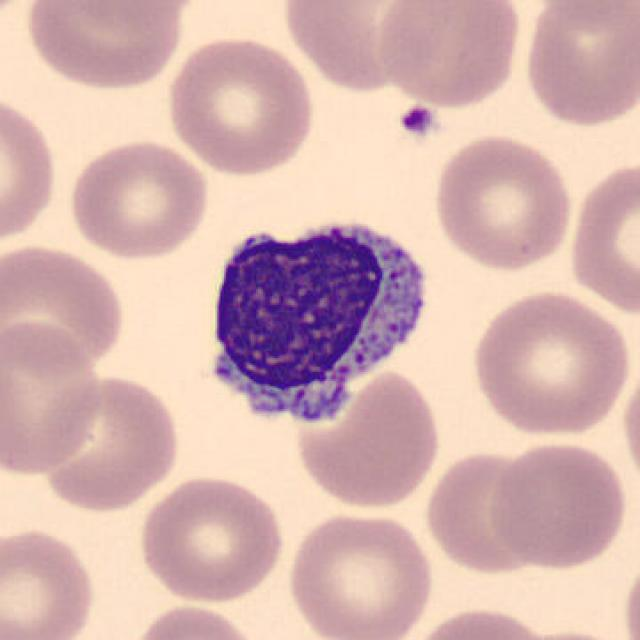Lymphocyte: (190, 205, 441, 439)
Platelets: (397, 102, 438, 140)
RBC: (466, 286, 634, 439), (27, 368, 185, 515), (162, 32, 318, 178), (290, 367, 446, 511), (430, 130, 578, 274), (135, 471, 288, 606), (284, 506, 438, 640), (487, 437, 631, 573), (63, 134, 214, 261), (0, 238, 130, 377), (421, 446, 551, 577), (0, 317, 105, 476), (278, 0, 452, 95), (375, 0, 526, 109), (21, 0, 190, 93), (519, 0, 638, 132), (565, 155, 640, 319), (0, 523, 99, 640), (0, 90, 60, 252), (126, 601, 263, 640), (407, 604, 554, 640), (69, 0, 208, 32), (618, 349, 640, 493), (618, 543, 640, 640)
